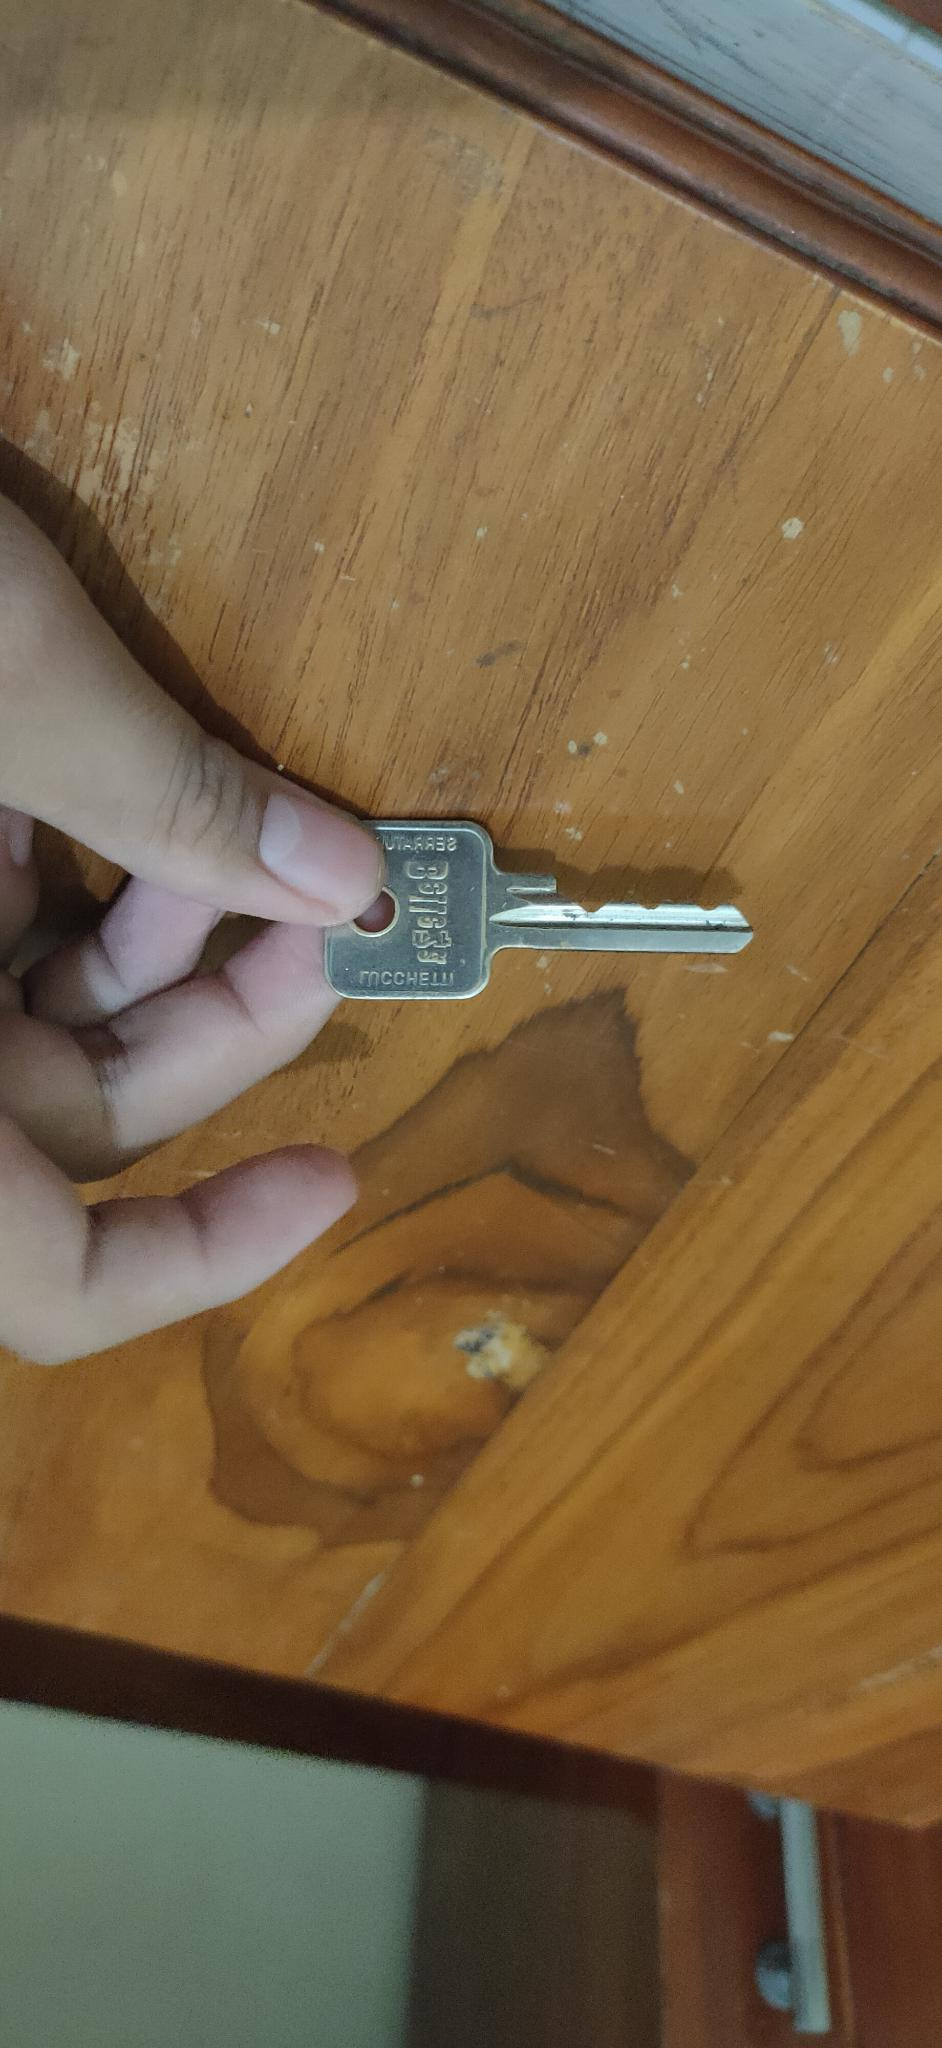keys: (310, 814, 769, 1038)
